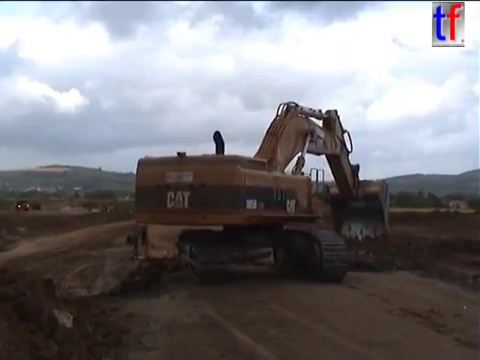excavator: (130, 98, 393, 286)
truck: (125, 214, 276, 293), (13, 199, 33, 213), (30, 200, 44, 212)
